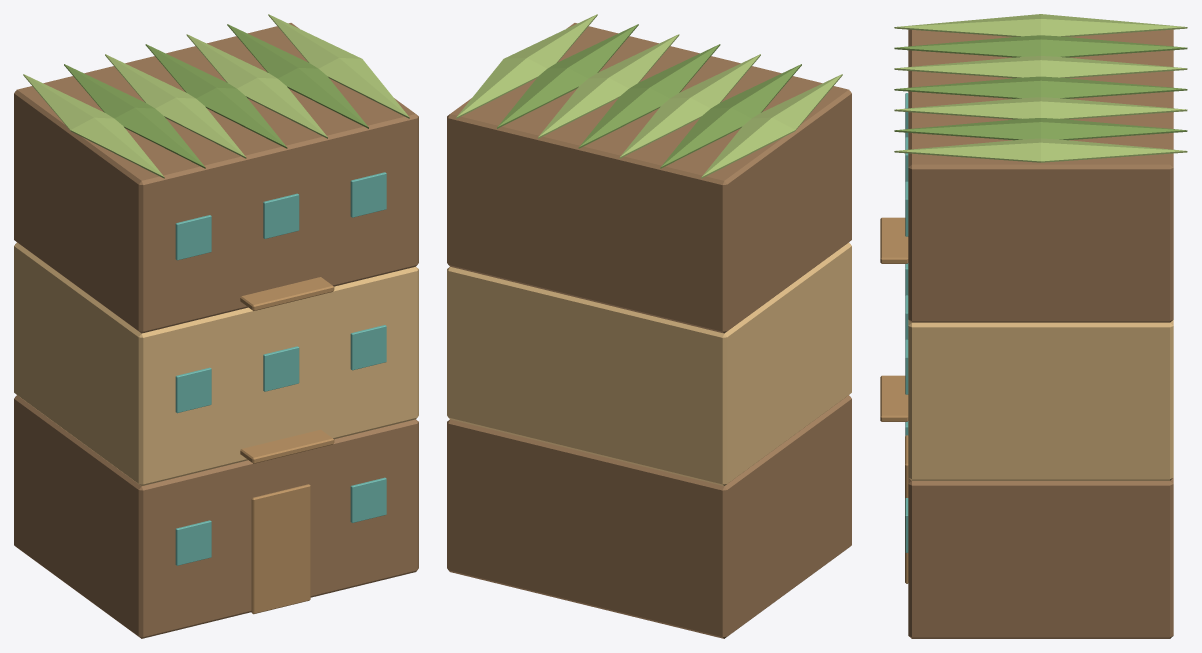
The model's file is CC_Apartment.fbx.
The picture shows the model from 3 angles, left to right: view 1: azimuth 30°, elevation 25°; view 2: azimuth 150°, elevation 25°; view 3: azimuth 270°, elevation 25°; orthographic projection. The views are drawn at different scales.
Parts seen in each view (by area): view 1: Storey.002, Storey.001, Storey, Apartment door, Roof leaf.007, Roof leaf.013, Roof leaf.008, Roof leaf.011, Roof leaf.012, Roof leaf.010, Roof leaf.009, Balcony (+9 smaller); view 2: Storey.002, Storey.001, Storey, Roof leaf.007, Roof leaf.013, Roof leaf.008, Roof leaf.011, Roof leaf.012, Roof leaf.010, Roof leaf.009; view 3: Storey.002, Storey.001, Storey, Roof leaf.013, Roof leaf.007, Roof leaf.008, Roof leaf.010, Roof leaf.011, Roof leaf.009, Roof leaf.012, Balcony.001, Balcony.
Part boxes in pixels (x1,y1,x2,y2): Storey.002: [14, 23, 418, 333]; Storey.001: [14, 242, 418, 486]; Storey: [14, 395, 418, 638]; Apartment door: [251, 484, 310, 614]; Roof leaf.007: [23, 74, 164, 178]; Roof leaf.013: [268, 14, 409, 118]; Roof leaf.008: [64, 64, 205, 168]; Roof leaf.011: [186, 34, 327, 138]; Roof leaf.012: [227, 24, 368, 128]; Roof leaf.010: [145, 44, 287, 148]; Roof leaf.009: [105, 54, 246, 158]; Balcony: [240, 429, 334, 463]; Storey.002: [447, 23, 851, 333]; Storey.001: [447, 242, 851, 486]; Storey: [447, 395, 851, 638]; Roof leaf.007: [701, 74, 842, 178]; Roof leaf.013: [456, 14, 597, 118]; Roof leaf.008: [660, 64, 801, 168]; Roof leaf.011: [538, 34, 679, 138]; Roof leaf.012: [497, 24, 638, 128]; Roof leaf.010: [578, 44, 720, 148]; Roof leaf.009: [619, 54, 760, 158]; Storey.002: [908, 29, 1173, 322]; Storey.001: [908, 320, 1173, 480]; Storey: [908, 478, 1173, 638]; Roof leaf.013: [894, 138, 1187, 162]; Roof leaf.007: [894, 14, 1187, 36]; Roof leaf.008: [894, 35, 1187, 57]; Roof leaf.010: [894, 76, 1187, 98]; Roof leaf.011: [894, 97, 1187, 119]; Roof leaf.009: [894, 56, 1187, 78]; Roof leaf.012: [894, 118, 1187, 140]; Balcony.001: [880, 217, 908, 263]; Balcony: [880, 375, 908, 421].
Bounding box in the file's own units: 5 × 7.73 × 4.4.
